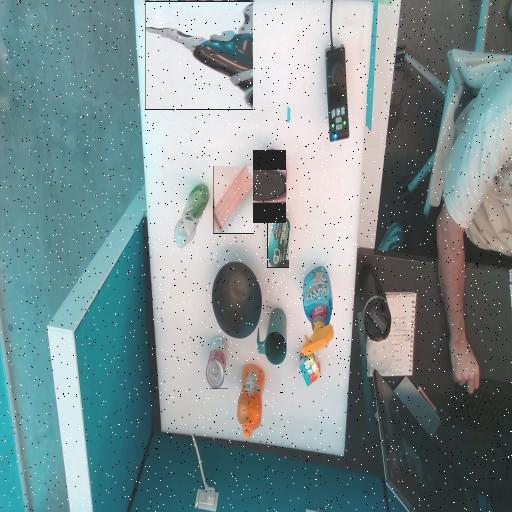bowl: (212, 262, 261, 337)
cleanser: (174, 185, 210, 249)
coffee_can: (253, 169, 286, 203)
jaco: (146, 1, 253, 110), (145, 3, 253, 108)
meat_can: (268, 216, 289, 267)
mug: (257, 322, 286, 351)
mustard_bottle: (238, 365, 264, 437)
rubik: (299, 353, 321, 387)
soup_can: (206, 336, 227, 387)
windex: (303, 267, 333, 356)
wooden_block: (213, 166, 253, 232), (214, 166, 253, 232)
workspace: (135, 3, 370, 455)
